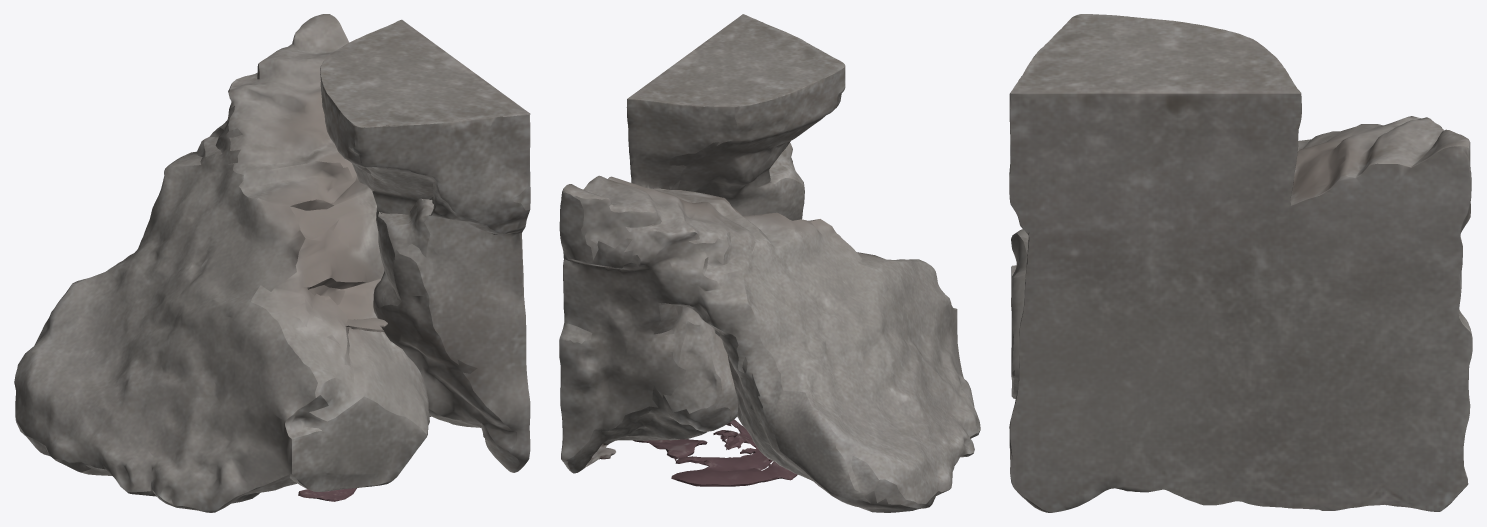
3 views of the same model, side by side, from view 1: azimuth 30°, elevation 25°; view 2: azimuth 150°, elevation 25°; view 3: azimuth 270°, elevation 25° (orthographic). The views are drawn at different scales.
Visible parts, largest first — view 1: world; view 2: world; view 3: world.
Boxes of the visible parts, box(x1,y1,x2,y2) form: world: box(14, 14, 530, 512); world: box(559, 14, 980, 512); world: box(1009, 14, 1472, 512).
Size of the model in its own units: 0.45 by 0.4499 by 0.4497.
1 material, 1 textured.
